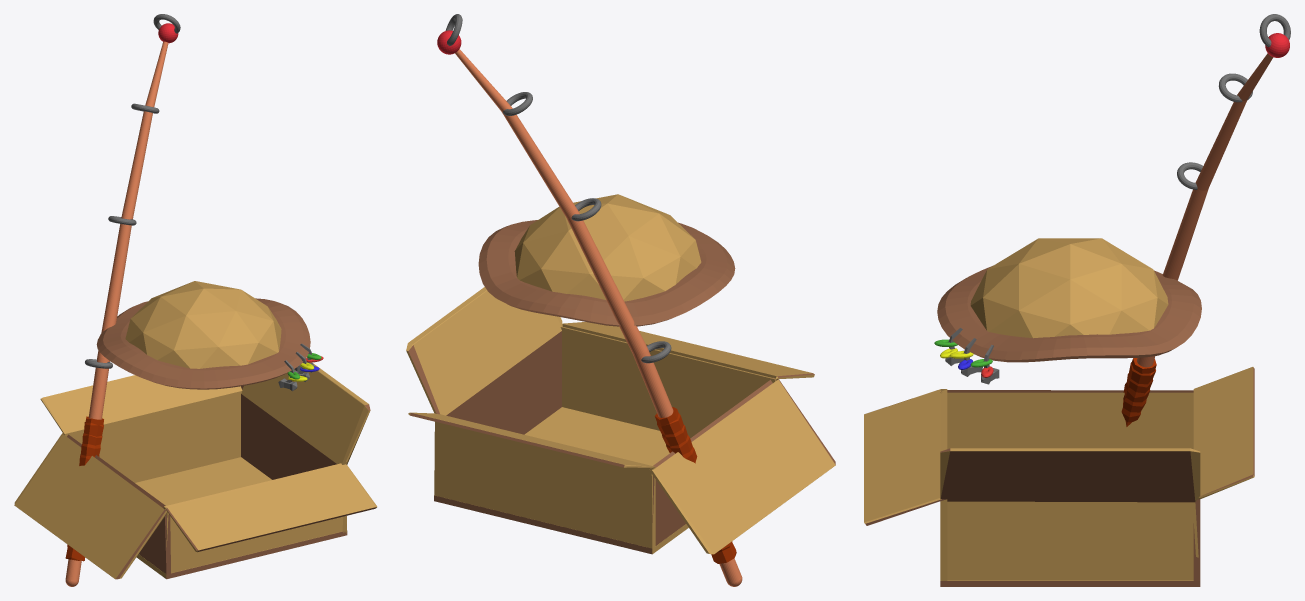
Rendered from HoboFishMan.fbx.
3 views of the same model, side by side, from view 1: azimuth 30°, elevation 25°; view 2: azimuth 150°, elevation 25°; view 3: azimuth 270°, elevation 25° (orthographic). The views are drawn at different scales.
Parts seen in each view (by area): view 1: Cube, Icosphere.001, Torus.004, Torus; view 2: Cube, Icosphere.001, Torus, Torus.004; view 3: Cube, Icosphere.001, Torus.004, Torus.
Part boxes in pixels (x1,y1,x2,y2): Cube: (14,362,377,579); Icosphere.001: (125,281,281,368); Torus.004: (96,298,310,389); Torus: (65,14,180,586); Cube: (406,287,835,554); Icosphere.001: (514,194,701,301); Torus: (437,14,742,586); Torus.004: (478,220,735,326); Cube: (864,367,1254,586); Icosphere.001: (970,238,1168,338); Torus.004: (937,266,1201,362); Torus: (1121,14,1290,426).
Bounding box in the file's own units: 310 × 559 × 360.
